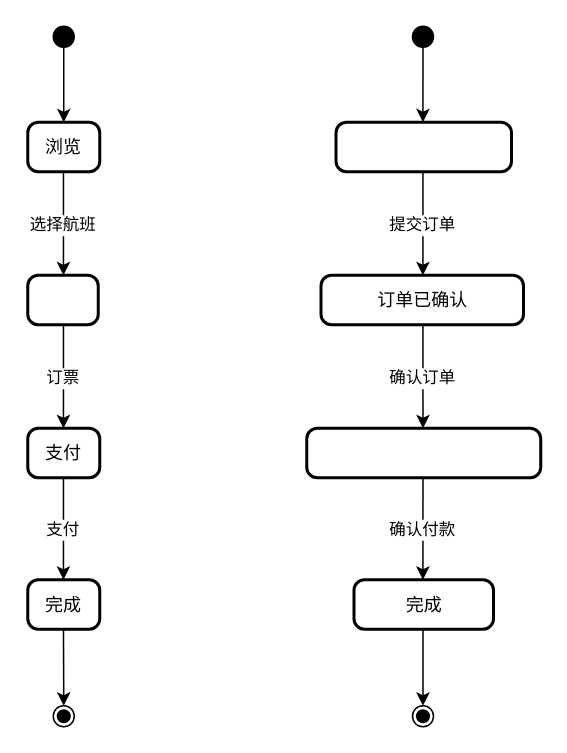
This 567x753 diagram has some shape labels left out. The shapes that lost their labels are listed below. From the top down, each one's box as (x1, y1, x2, y2) in pixels, then its label:
(334, 120, 512, 172): 订单待确认
(26, 273, 99, 326): 预定
(304, 426, 542, 478): 付款已确认
